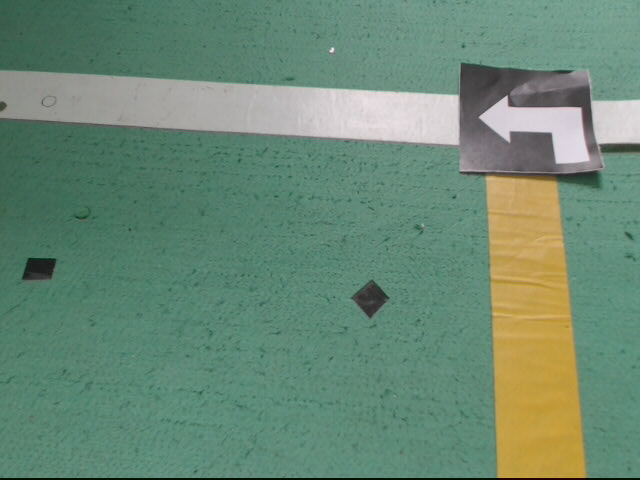left: (457, 58, 609, 175)
